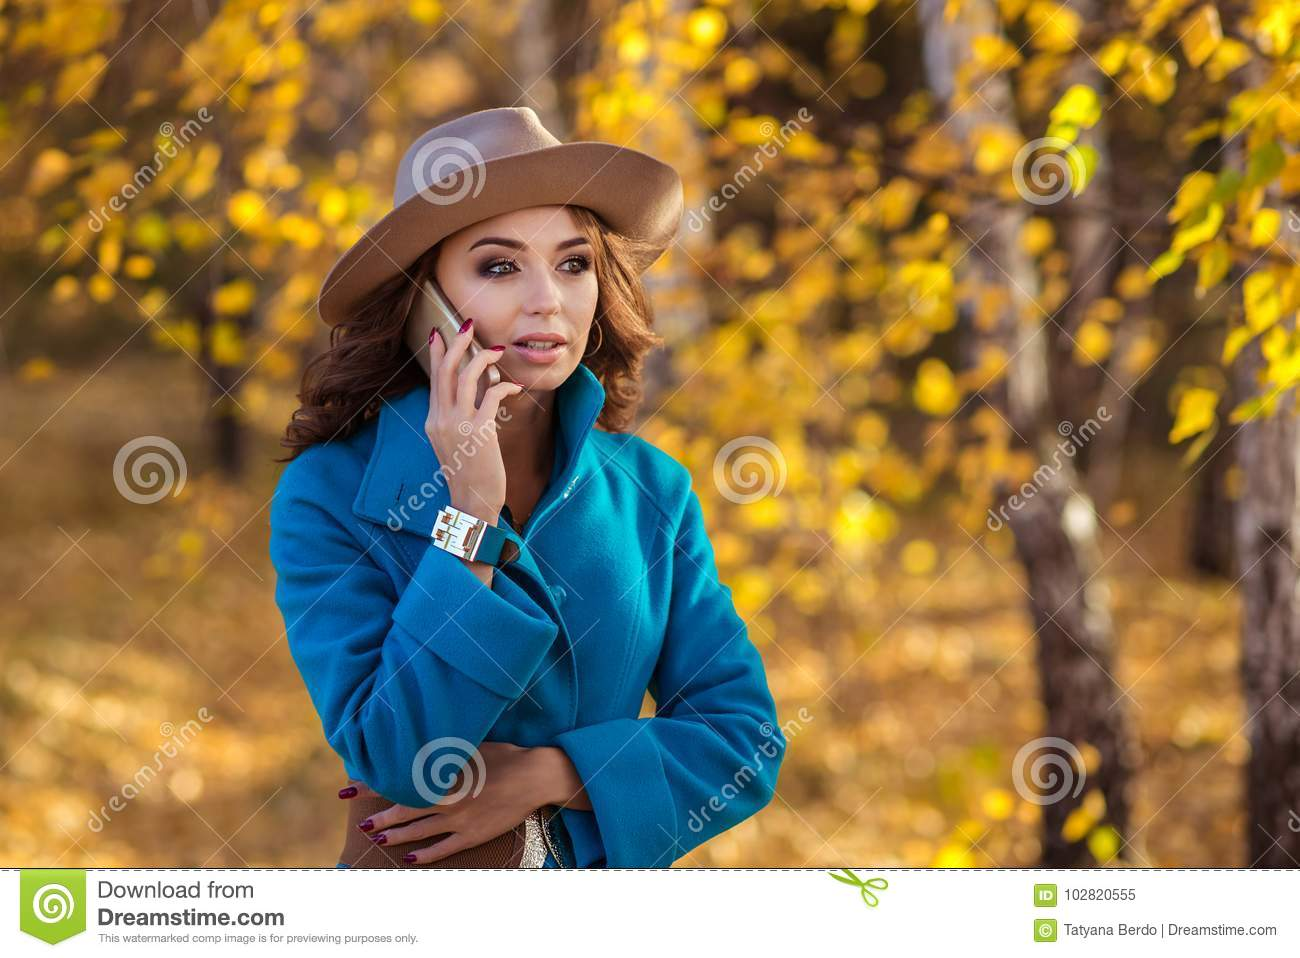phone: (407, 281, 503, 433)
talk: (407, 223, 601, 526)
